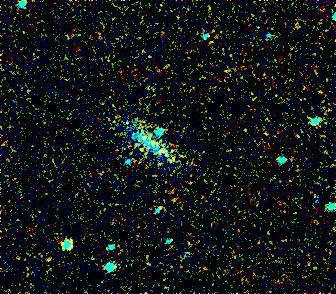star: (34, 245, 64, 275)
